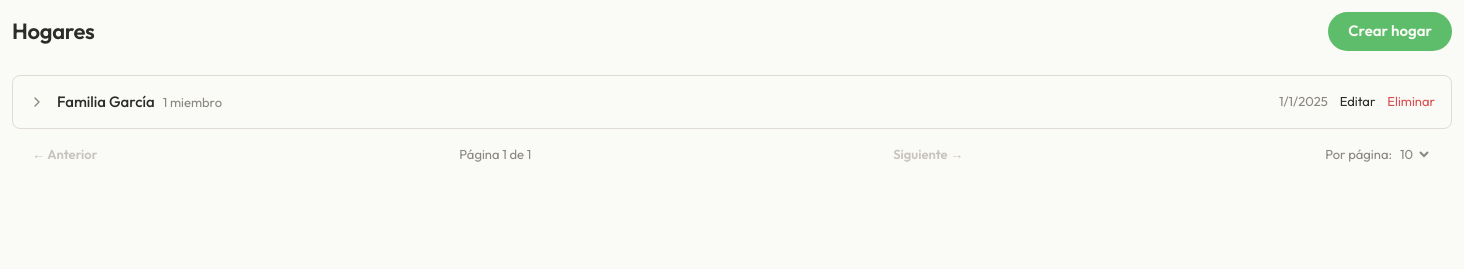
Test case: Household members (add member flow) › shows "Agregar miembro" button when a household row is expanded
The image size is (1464, 269).
Expected: the text "Familia García" is shown, [57, 92, 155, 111]
Click the button named "expandir": coordinates (37, 102) [29, 94, 45, 110]
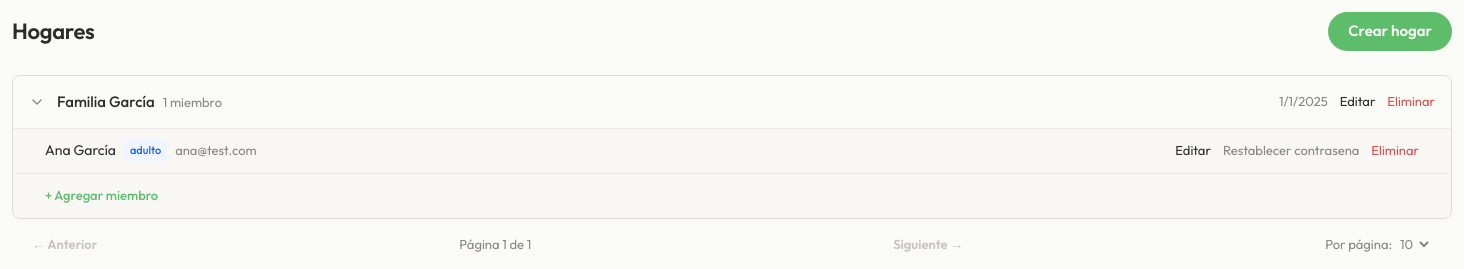
Now the button "+ Agregar miembro" is shown, box [45, 186, 158, 205]
